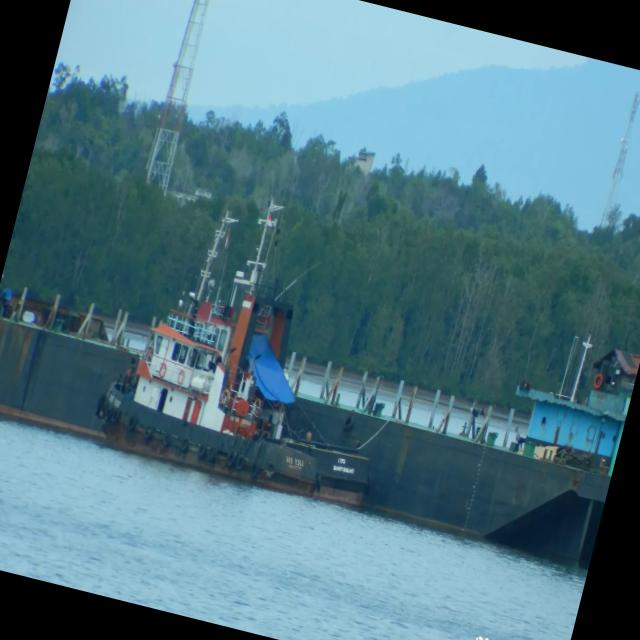Tug: (97, 203, 367, 505)
